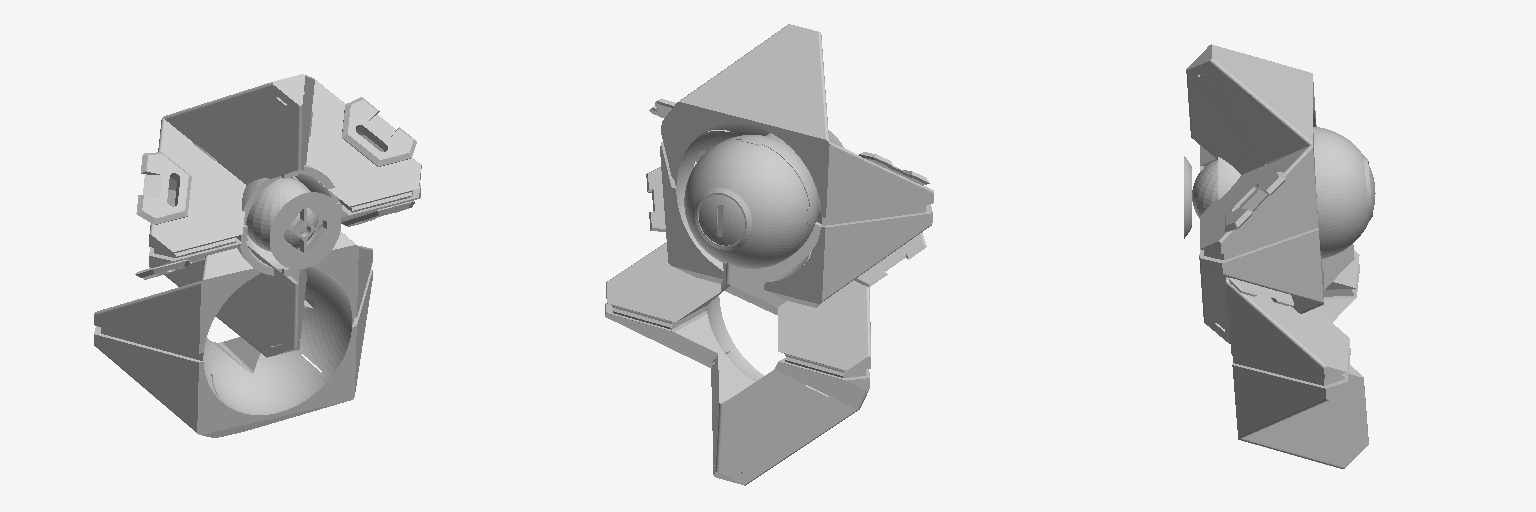
The model's file is ghost1.obj.
3 renders of one model, left to right at view 1: azimuth 30°, elevation 25°; view 2: azimuth 150°, elevation 25°; view 3: azimuth 270°, elevation 25°, orthographic.
Parts seen in each view (by area): view 1: Ghost_Front_E.001_Ghost_Front_E, Ghost_Back.001_Ghost_Back, Ghost_eye_E.002_Ghost_eye_E, Sphere, Ghost_shell_front_E.004_Ghost_shell_front_E.001; view 2: Ghost_Front_E.001_Ghost_Front_E, Ghost_Back.001_Ghost_Back, Ghost_shell_back_E.001_Ghost_shell_back_E, Ghost_shell_front_E.001_Ghost_shell_front_E; view 3: Ghost_Front_E.001_Ghost_Front_E, Ghost_Back.001_Ghost_Back, Ghost_shell_back_E.001_Ghost_shell_back_E, Sphere, Ghost_eye_E.002_Ghost_eye_E, Ghost_shell_front_E.004_Ghost_shell_front_E.001.
Part boxes in pixels (x1,y1,x2,y2): Ghost_Front_E.001_Ghost_Front_E: (135,74,421,357); Ghost_Back.001_Ghost_Back: (94,231,372,437); Ghost_eye_E.002_Ghost_eye_E: (270,192,340,268); Sphere: (246,177,317,251); Ghost_shell_front_E.004_Ghost_shell_front_E.001: (236,165,341,276); Ghost_Front_E.001_Ghost_Front_E: (646,24,933,314); Ghost_Back.001_Ghost_Back: (605,222,870,485); Ghost_shell_back_E.001_Ghost_shell_back_E: (684,140,808,268); Ghost_shell_front_E.001_Ghost_shell_front_E: (717,135,818,255); Ghost_Front_E.001_Ghost_Front_E: (1186,44,1323,343); Ghost_Back.001_Ghost_Back: (1226,244,1368,468); Ghost_shell_back_E.001_Ghost_shell_back_E: (1313,127,1375,258); Sphere: (1192,160,1217,218); Ghost_eye_E.002_Ghost_eye_E: (1184,156,1191,238); Ghost_shell_front_E.004_Ghost_shell_front_E.001: (1214,157,1240,199).
Size of the model in its own units: 14.77 by 20.47 by 8.69.